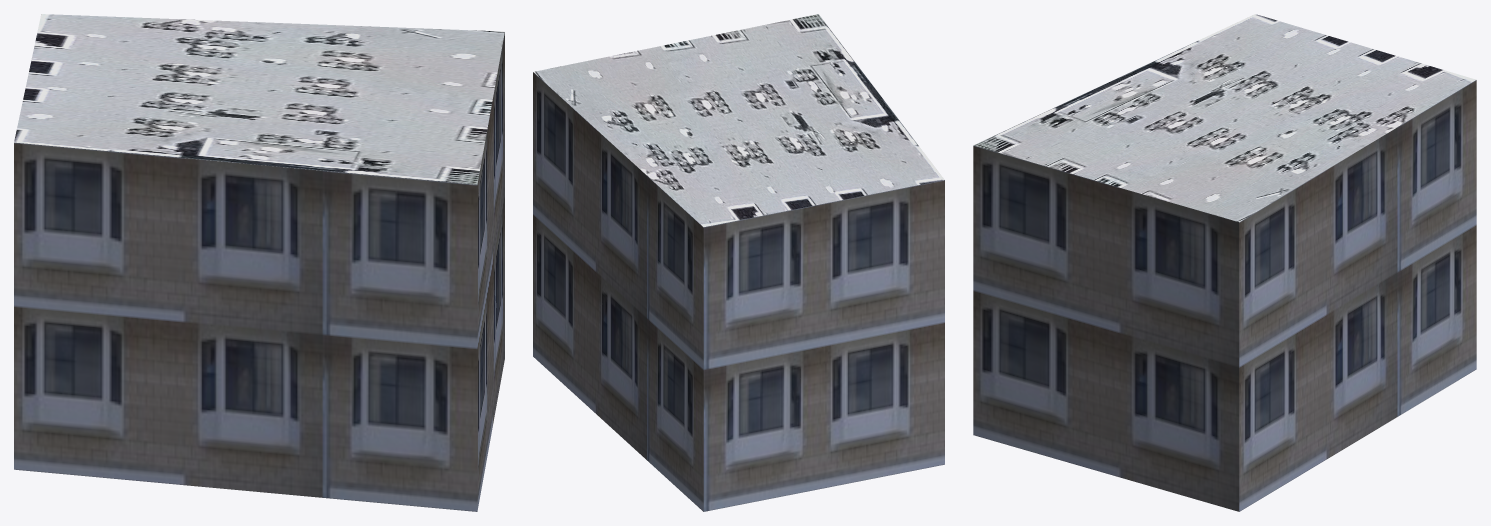
File: ResTex__5262.fbx
The picture shows the model from 3 angles, left to right: view 1: azimuth 30°, elevation 25°; view 2: azimuth 150°, elevation 25°; view 3: azimuth 270°, elevation 25°; orthographic projection. The views are drawn at different scales.
Visible parts, largest first — view 1: CityEngineMaterial_3_m, CityEngineMaterial_m; view 2: CityEngineMaterial_3_m, CityEngineMaterial_m; view 3: CityEngineMaterial_3_m, CityEngineMaterial_m.
Boxes of the visible parts, <box> form: CityEngineMaterial_3_m: <box>14,32,504,511</box>; CityEngineMaterial_m: <box>14,14,504,184</box>; CityEngineMaterial_3_m: <box>533,72,944,511</box>; CityEngineMaterial_m: <box>533,14,944,227</box>; CityEngineMaterial_3_m: <box>973,80,1476,511</box>; CityEngineMaterial_m: <box>973,14,1476,222</box>.
Bounding box in the file's own units: 9.25 × 6 × 9.45.
2 materials, 2 textured.
